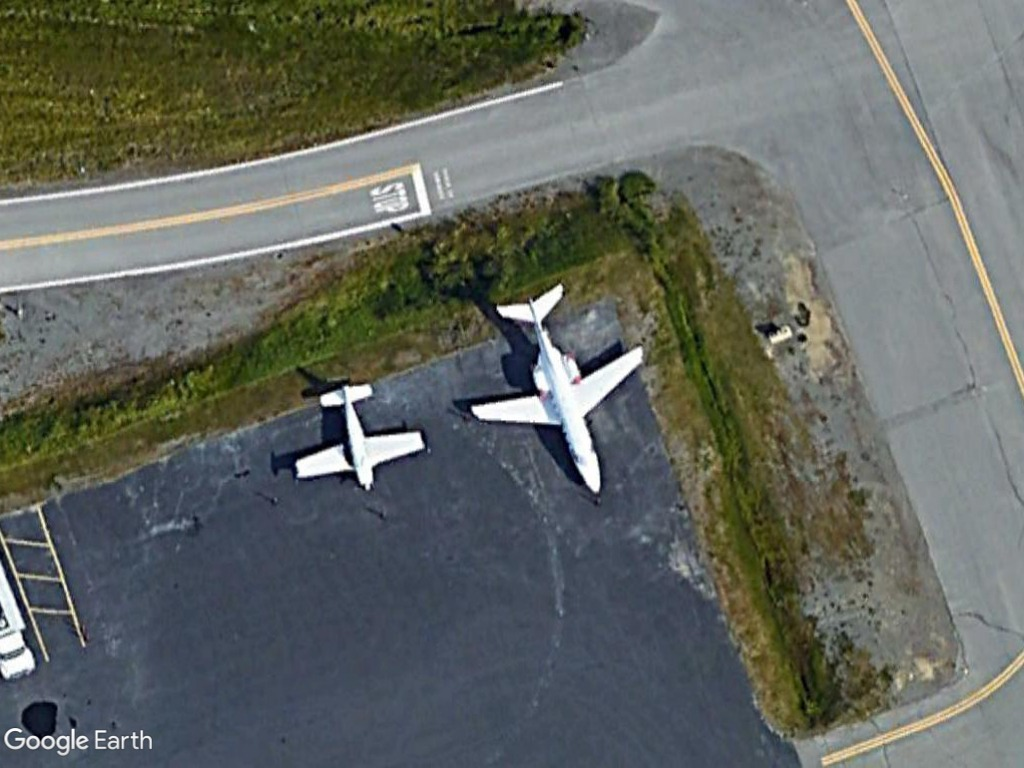chartered: (462, 286, 649, 505)
trainer: (291, 375, 429, 492)
